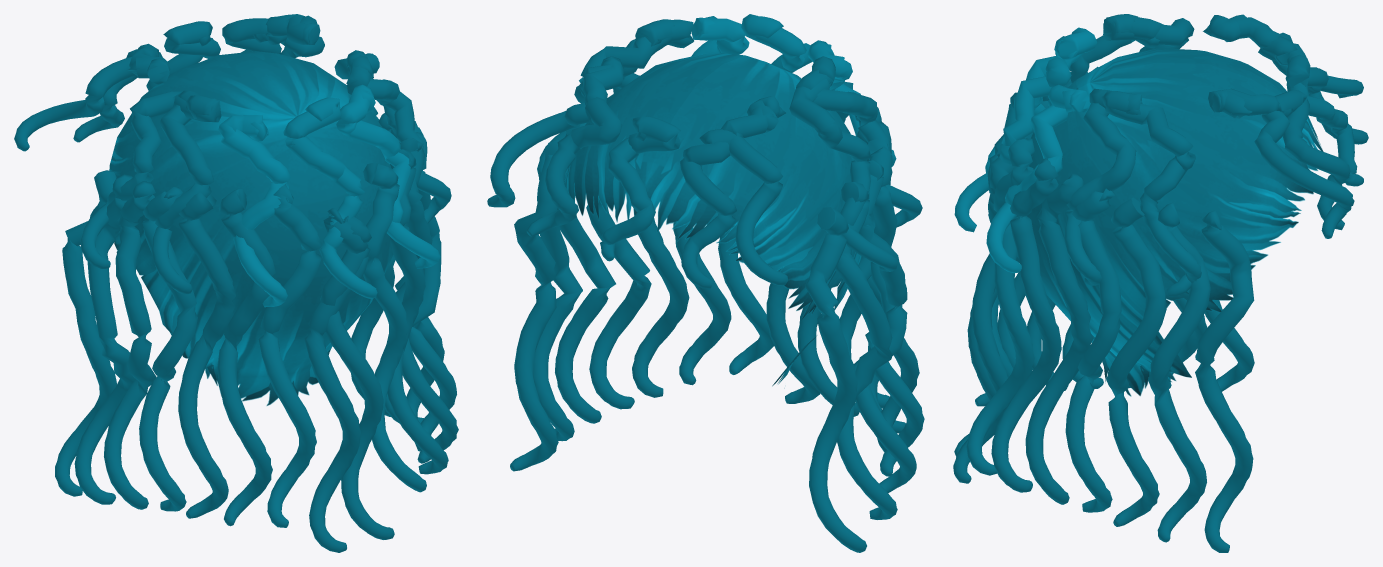
The model's file is hair.glb.
3 renders of one model, left to right at view 1: azimuth 30°, elevation 25°; view 2: azimuth 150°, elevation 25°; view 3: azimuth 270°, elevation 25°, orthographic. The views are drawn at different scales.
Parts seen in each view (by area): view 1: male-medium-curls-v1; view 2: male-medium-curls-v1; view 3: male-medium-curls-v1.
Part boxes in pixels (left/top/right/bottom): male-medium-curls-v1: left=14, top=14, right=458, bottom=552; male-medium-curls-v1: left=487, top=14, right=924, bottom=552; male-medium-curls-v1: left=953, top=14, right=1368, bottom=552.
Size of the model in its own units: 0.2757 by 0.3174 by 0.2854.
Materials: 1 (1 with a texture image).
